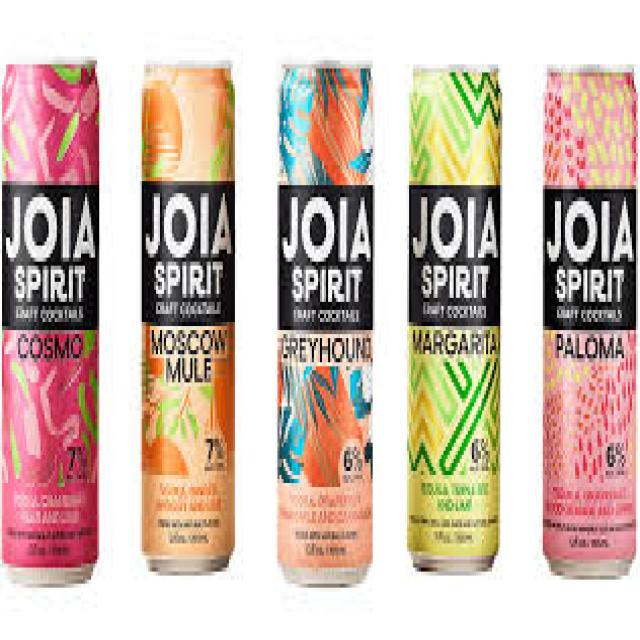Cans: (2, 40, 109, 604), (134, 44, 241, 588), (273, 52, 377, 596), (401, 52, 506, 580), (538, 52, 640, 575)
